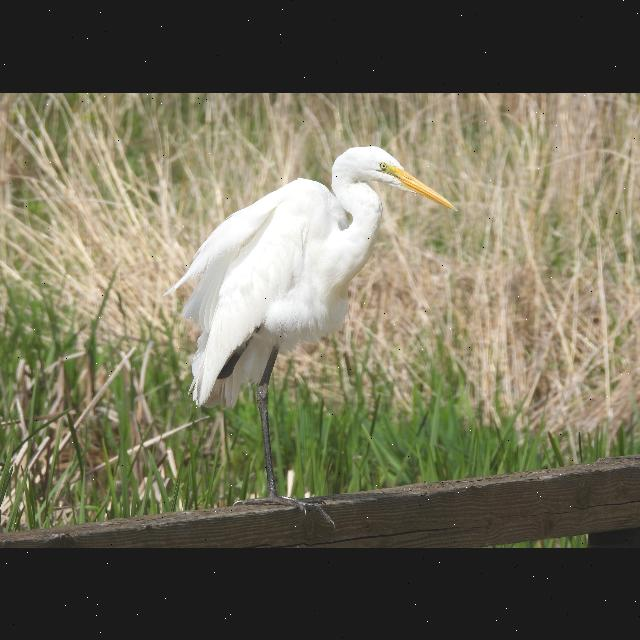egret: (174, 146, 456, 509)
